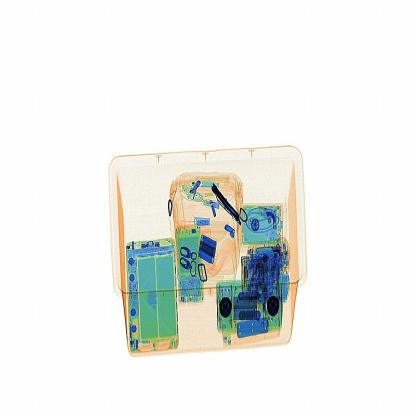knife: (206, 173, 249, 240)
